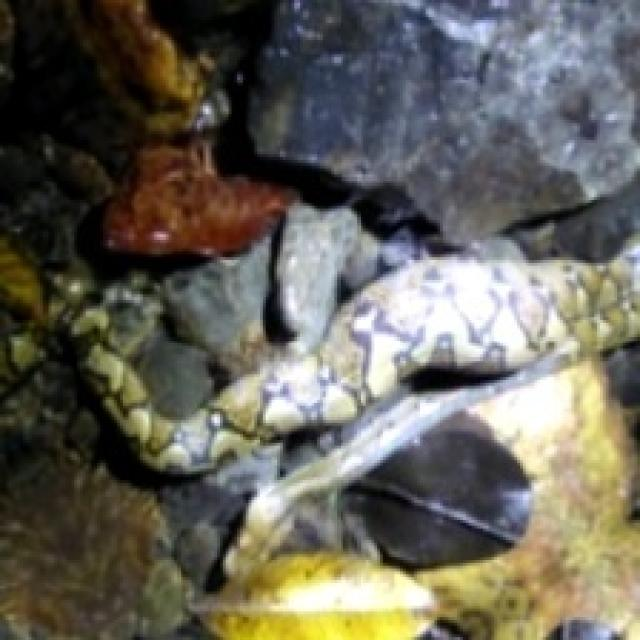reticulated python: (71, 257, 637, 471)
